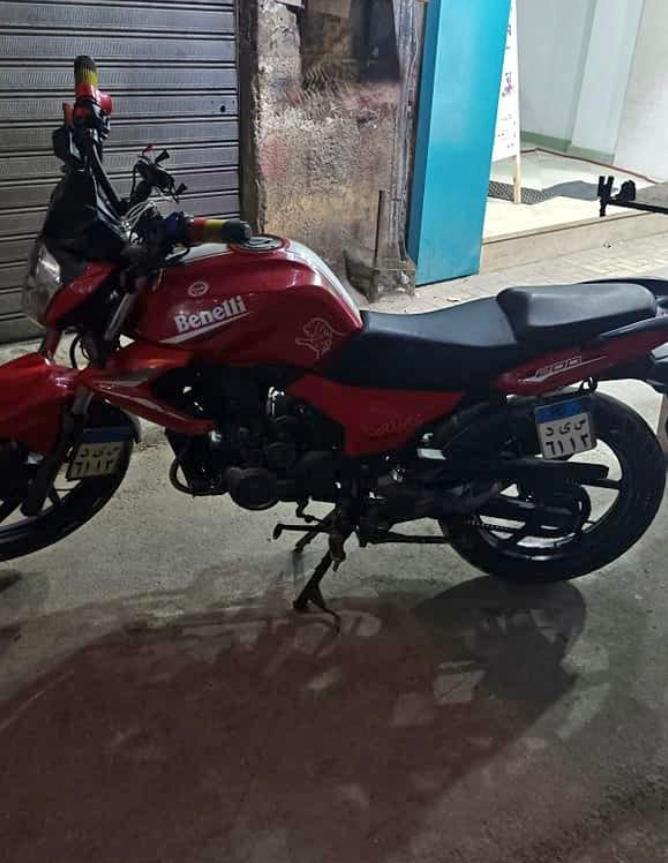License Plate: (533, 396, 599, 462), (66, 422, 130, 480)
